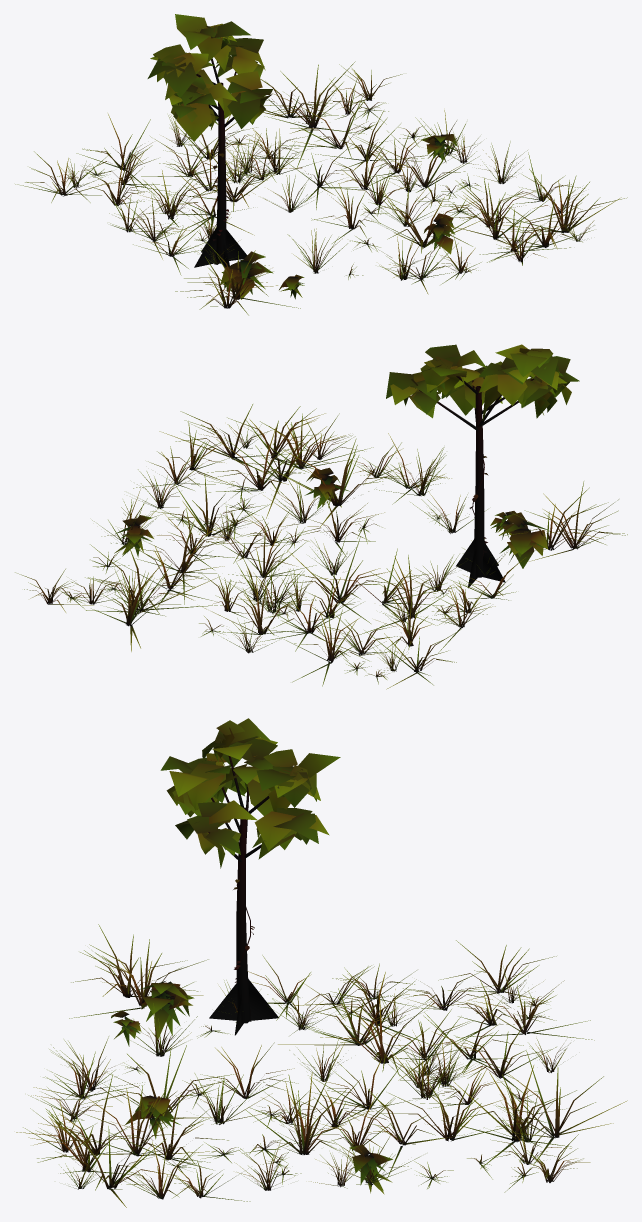
Rendered from patch_elephant.glb.
3 renders of one model, top to bottom at view 1: azimuth 30°, elevation 25°; view 2: azimuth 150°, elevation 25°; view 3: azimuth 270°, elevation 25°, orthographic. The views are drawn at different scales.
Parts seen in each view (by area): view 1: patch_elephant; view 2: patch_elephant; view 3: patch_elephant.
Boxes of the visible parts, x1,y1,x2,y2 form: patch_elephant: [15, 14, 627, 315]; patch_elephant: [15, 344, 627, 689]; patch_elephant: [16, 718, 627, 1207].
Bounding box in the file's own units: 19.3 × 9.82 × 19.31.
1 material, 1 textured.
